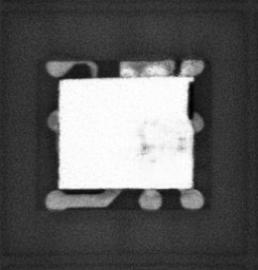DIE_BROKEN: (185, 78, 196, 125)
